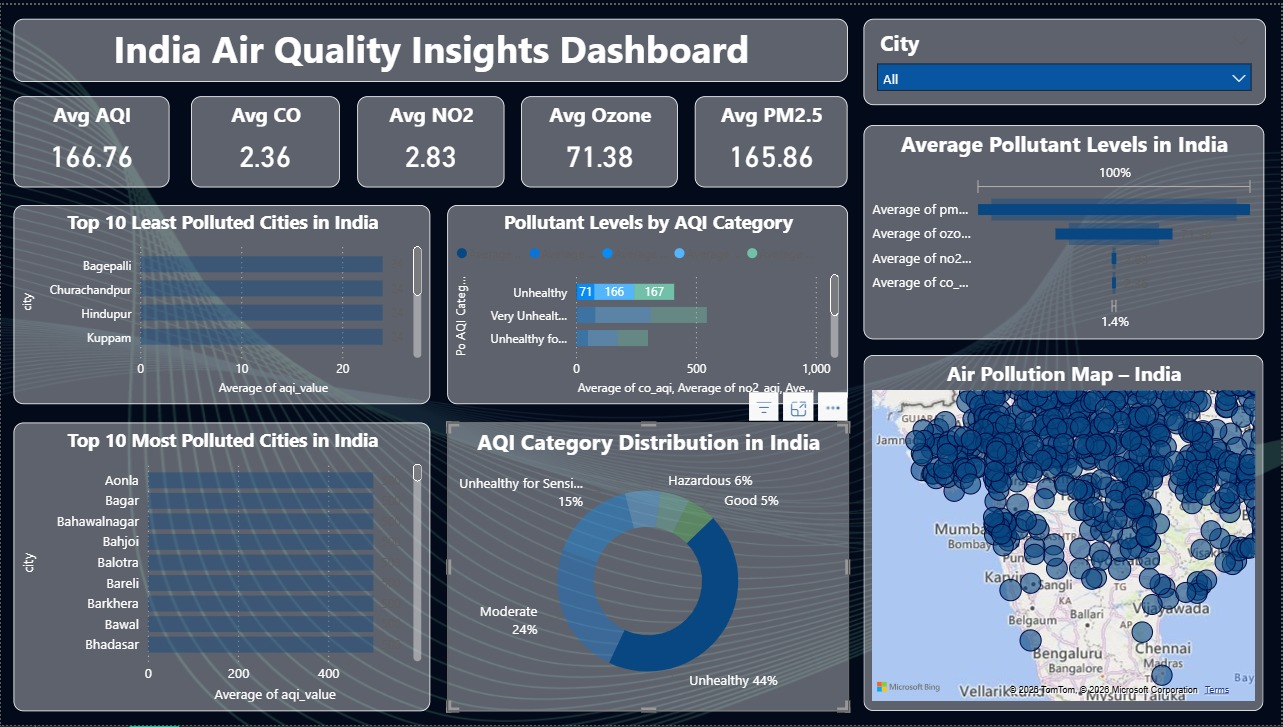

What the dashboard file says about the page in this screenshot:
{"tool":"powerbi","page":{"name":"Page 1","canvas":[1280,720],"ordinal":0},"visuals":[{"type":"clusteredBarChart","title":"Top 10 Most Polluted Cities in India","fields":{"Category":["public pollution.city"],"Y":["Avg(public pollution.aqi_value)"]},"box":[12.9,417.1,417.1,288.6],"z":0},{"type":"textbox","title":"India Air Quality Insights Dashboard","box":[12.9,14.3,834.3,62.9],"z":1000},{"type":"donutChart","title":"AQI Category Distribution in India","fields":{"Y":["CountNonNull(public pollution.aqi_category)"],"Category":["public pollution.aqi_category"]},"box":[445.7,417.1,401.4,288.6],"z":2000},{"type":"slicer","fields":{"Values":["public pollution.city"]},"box":[863.1,13.7,402.1,86.4],"z":3000},{"type":"funnel","title":"Average Pollutant Levels in India","fields":{"Y":["Avg(public pollution.pm25_aqi)","Avg(public pollution.ozone_aqi)","Avg(public pollution.no2_aqi)","Avg(public pollution.co_aqi)"]},"box":[863.1,119.4,400.7,214.1],"z":4000},{"type":"card","title":"Avg AQI","fields":{"Values":["Avg(public pollution.aqi_value)"]},"box":[12.9,91.4,155.7,91.4],"z":5000},{"type":"card","title":"Avg NO2","fields":{"Values":["Avg(public pollution.no2_aqi)"]},"box":[355.7,91.4,147.1,91.4],"z":6000},{"type":"card","title":"Avg Ozone","fields":{"Values":["Avg(public pollution.ozone_aqi)"]},"box":[520,91.4,157.1,91.4],"z":7000},{"type":"card","title":"Avg PM2.5","fields":{"Values":["Avg(public pollution.pm25_aqi)"]},"box":[694.3,91.4,152.9,91.4],"z":8000},{"type":"card","title":"Avg CO","fields":{"Values":["Avg(public pollution.co_aqi)"]},"box":[190,91.4,148.6,91.4],"z":9000},{"type":"map","title":"Air Pollution Map – India","fields":{"Category":["public pollution.city","public pollution.country"],"Size":["Avg(public pollution.aqi_value)"]},"box":[862.9,350,400,355.7],"z":10000},{"type":"clusteredBarChart","title":"Top 10 Least Polluted Cities in India","fields":{"Category":["public pollution.city"],"Y":["Avg(public pollution.aqi_value)"]},"box":[12.3,200.3,417.2,199],"z":11000},{"type":"barChart","title":"Pollutant Levels by AQI Category","fields":{"Category":["public pollution.aqi_category"],"Y":["Avg(public pollution.co_aqi)","Avg(public pollution.no2_aqi)","Avg(public pollution.ozone_aqi)","Avg(public pollution.pm25_aqi)","Avg(public pollution.aqi_value)"]},"box":[446,200.3,400.7,199],"z":12000}]}

Visuals, with their boxes in screenshot pixels (x1, y1, x2, y2), scaled from the page's 1280x720 canvas onto the 1283x727 screenshot:
"Top 10 Most Polluted Cities in India" clusteredBarChart: bbox(13, 421, 431, 713)
"India Air Quality Insights Dashboard" textbox: bbox(13, 14, 849, 78)
"AQI Category Distribution in India" donutChart: bbox(447, 421, 849, 713)
slicer - public pollution.city: bbox(865, 14, 1268, 101)
"Average Pollutant Levels in India" funnel: bbox(865, 121, 1267, 337)
"Avg AQI" card: bbox(13, 92, 169, 185)
"Avg NO2" card: bbox(357, 92, 504, 185)
"Avg Ozone" card: bbox(521, 92, 679, 185)
"Avg PM2.5" card: bbox(696, 92, 849, 185)
"Avg CO" card: bbox(190, 92, 339, 185)
"Air Pollution Map – India" map: bbox(865, 353, 1266, 713)
"Top 10 Least Polluted Cities in India" clusteredBarChart: bbox(12, 202, 431, 403)
"Pollutant Levels by AQI Category" barChart: bbox(447, 202, 849, 403)
